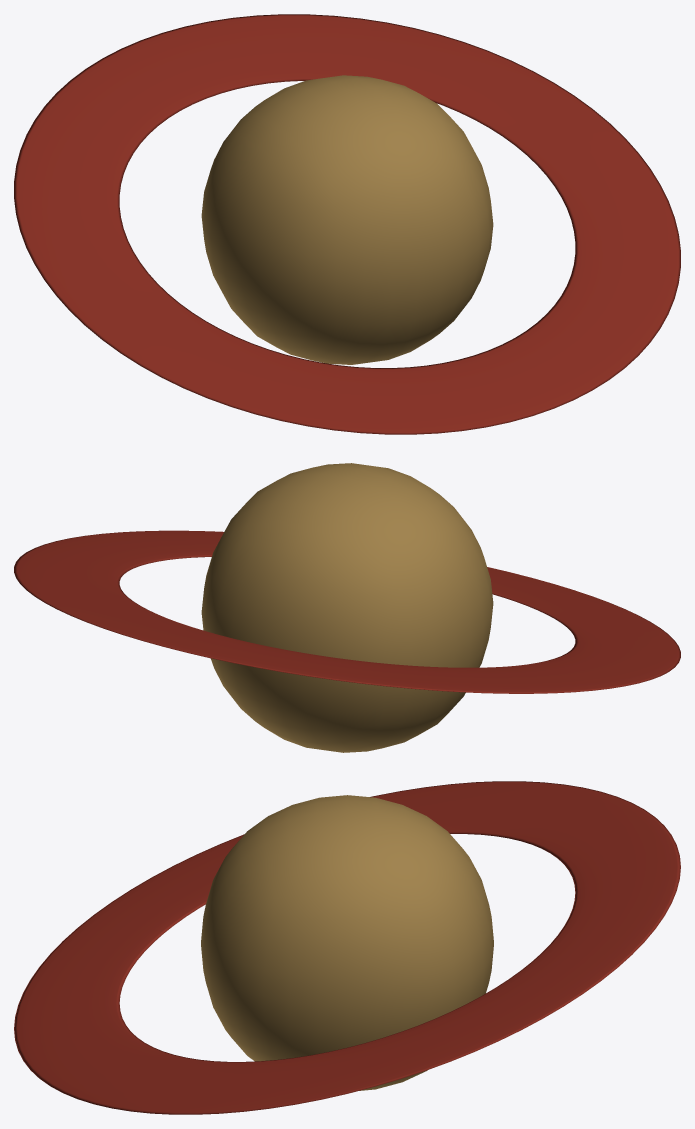
The model's file is planet.fbx.
3 views of the same model, one above another, from view 1: azimuth 30°, elevation 25°; view 2: azimuth 150°, elevation 25°; view 3: azimuth 270°, elevation 25° (orthographic). The views are drawn at different scales.
Visible parts, largest first — view 1: pCylinder1, pCube1; view 2: pCube1, pCylinder1; view 3: pCylinder1, pCube1.
Part boxes in pixels (x1=…): pCylinder1: x1=14, y1=14, x2=680, y2=434; pCube1: x1=201, y1=75, x2=493, y2=364; pCube1: x1=201, y1=463, x2=493, y2=752; pCylinder1: x1=14, y1=530, x2=680, y2=693; pCylinder1: x1=14, y1=781, x2=680, y2=1114; pCube1: x1=201, y1=795, x2=493, y2=1090.
Bounding box in the file's own units: 3.68 × 1.56 × 3.55.
